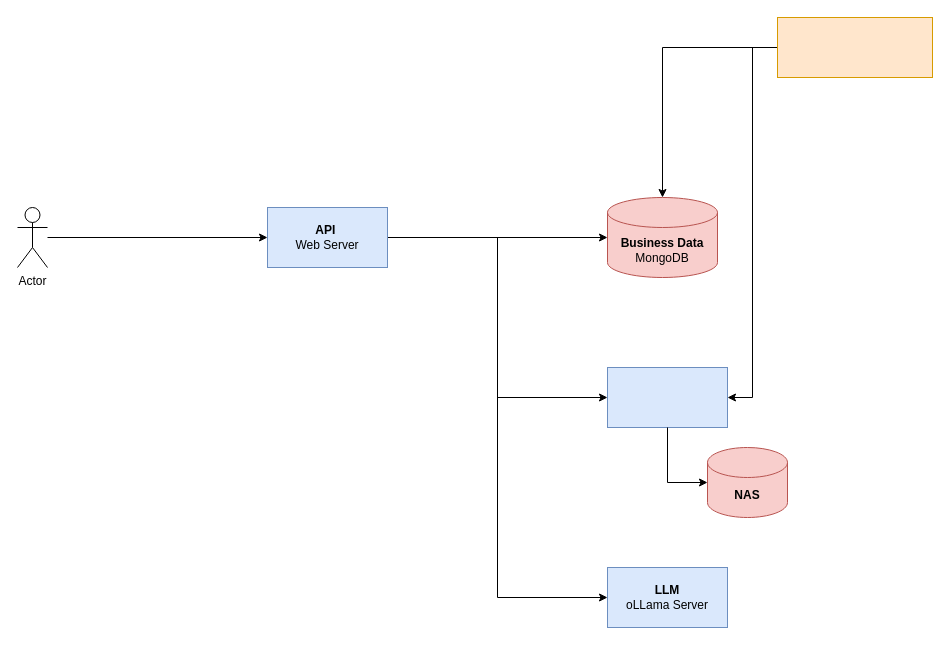
This 950x645 diagram has some shape labels left out. Each missing label, with the box of its shape:
Images MinIO Server: (606, 366, 728, 428)
Watcher / Trigger ChangeStream Client: (776, 16, 932, 78)
